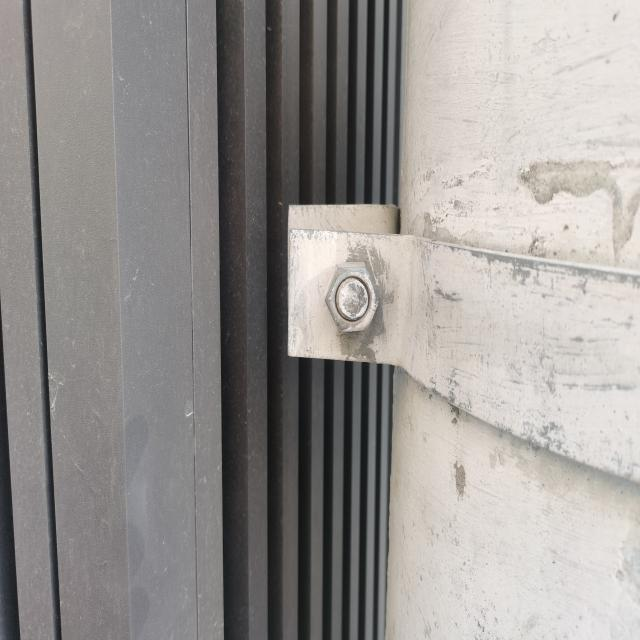bolt nut: (322, 258, 381, 336)
